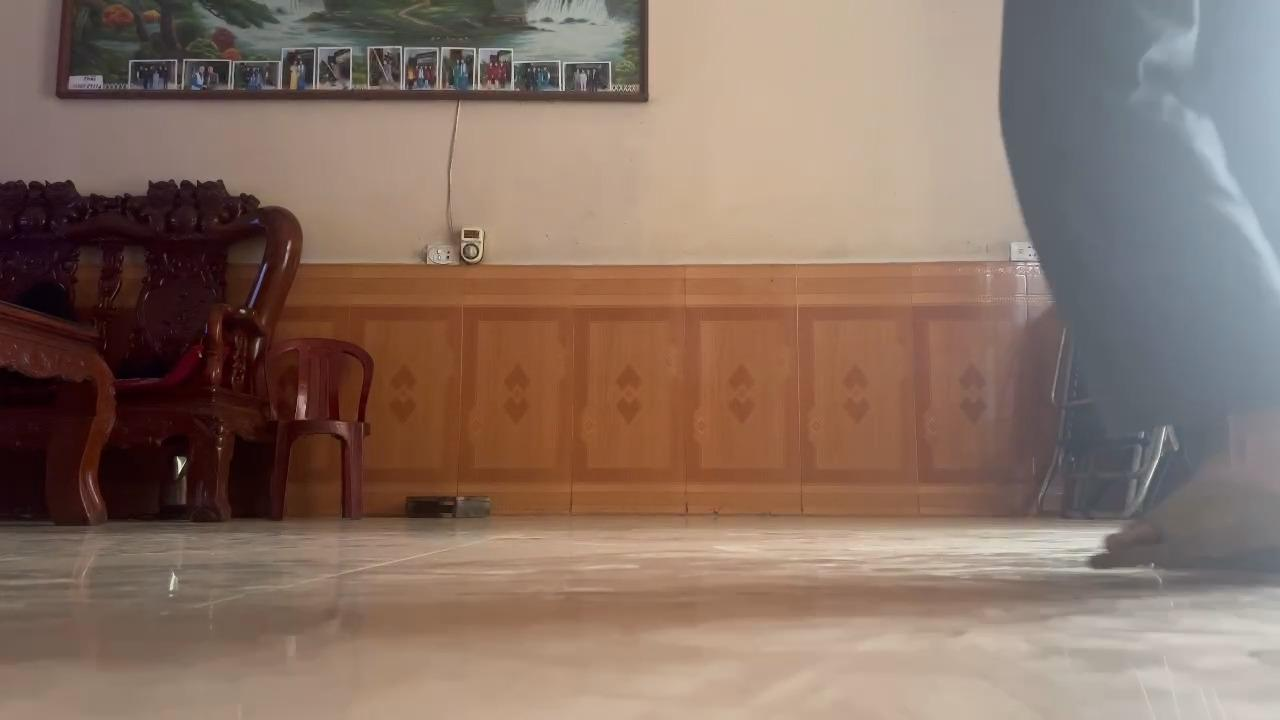no-boot: (1080, 433, 1280, 590)
